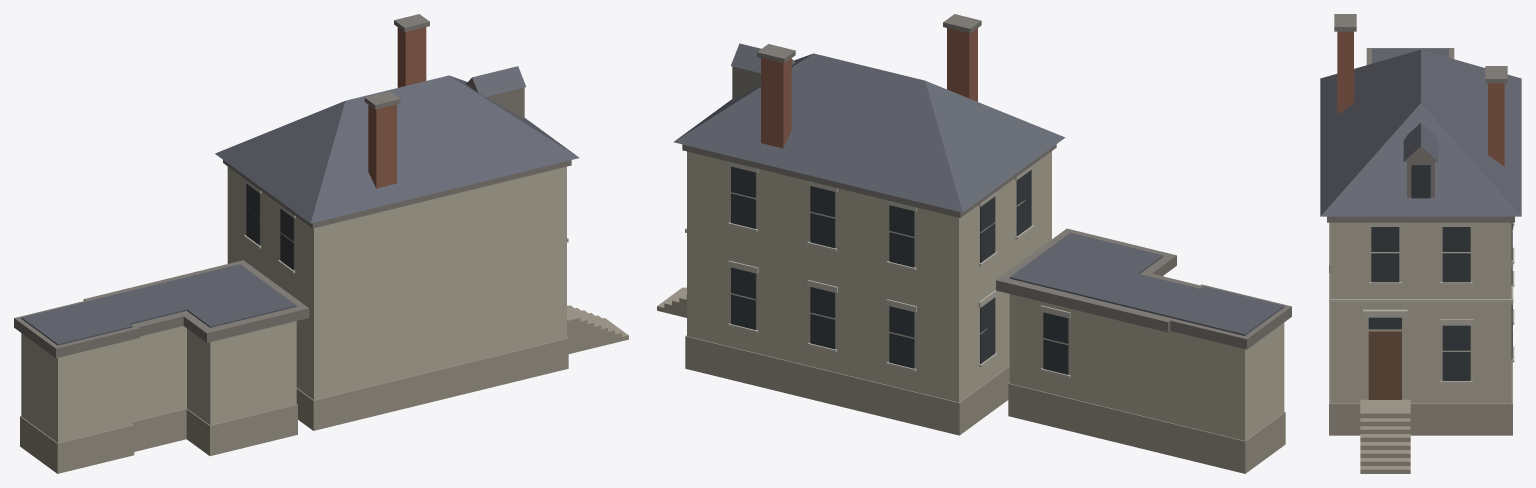
The model's file is house_1837_indiana__draft_1904.glb.
3 views of the same model, side by side, from view 1: azimuth 30°, elevation 25°; view 2: azimuth 150°, elevation 25°; view 3: azimuth 270°, elevation 25° (orthographic). The views are drawn at different scales.
Parts seen in each view (by area): view 1: house_1837_indiana__draft_1904; view 2: house_1837_indiana__draft_1904; view 3: house_1837_indiana__draft_1904.
Boxes of the visible parts, x1=… form: house_1837_indiana__draft_1904: x1=14, y1=14, x2=628, y2=473; house_1837_indiana__draft_1904: x1=657, y1=14, x2=1291, y2=473; house_1837_indiana__draft_1904: x1=1320, y1=14, x2=1521, y2=473.
Size of the model in its own units: 24.75 by 12.79 by 7.2.
